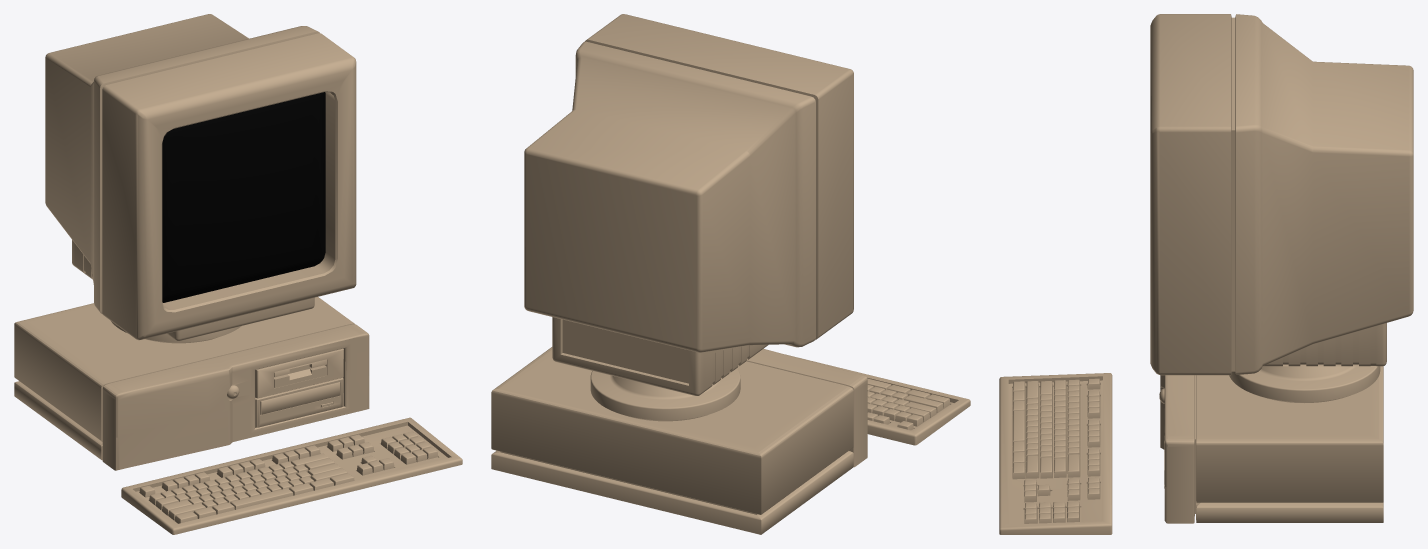
File: desktop.glb
3 views of the same model, side by side, from view 1: azimuth 30°, elevation 25°; view 2: azimuth 150°, elevation 25°; view 3: azimuth 270°, elevation 25° (orthographic). The views are drawn at different scales.
Parts seen in each view (by area): view 1: Monitor, ComputerTower, Keys, Keyboard, UnderMonitor, MonitorBase; view 2: Monitor, ComputerTower, UnderMonitor, MonitorBase, Keys, Keyboard; view 3: Monitor, ComputerTower, Keys, Keyboard, MonitorBase, UnderMonitor.
Part boxes in pixels (x1,y1,x2,y2): Monitor: [45, 14, 356, 340]; ComputerTower: [14, 297, 369, 470]; Keys: [139, 431, 438, 523]; Keyboard: [121, 417, 462, 534]; UnderMonitor: [72, 240, 314, 340]; MonitorBase: [111, 321, 241, 343]; Monitor: [524, 14, 853, 352]; ComputerTower: [491, 347, 867, 534]; UnderMonitor: [552, 317, 768, 395]; MonitorBase: [590, 368, 740, 421]; Keys: [867, 378, 950, 430]; Keyboard: [786, 354, 970, 445]; Monitor: [1150, 14, 1413, 375]; ComputerTower: [1159, 366, 1383, 523]; Keys: [1012, 378, 1100, 523]; Keyboard: [999, 373, 1112, 534]; MonitorBase: [1229, 366, 1380, 402]; UnderMonitor: [1263, 323, 1386, 366].
Bounding box in the file's own units: 790 × 940 × 907.
